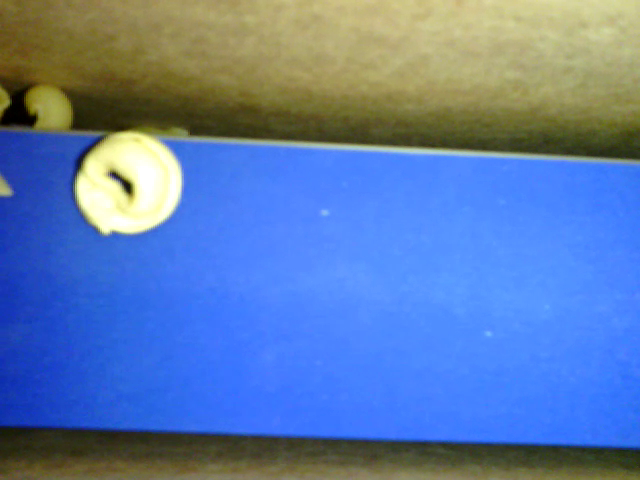tortellini: (73, 127, 185, 235)
